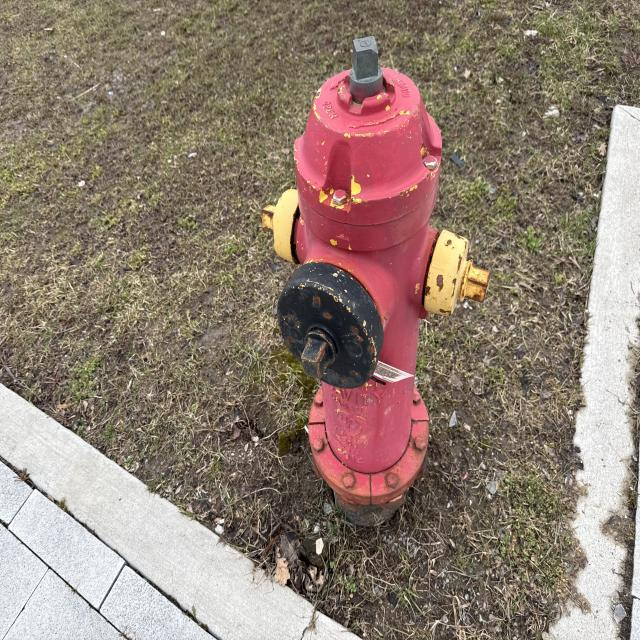Fire hydrant: (260, 34, 492, 513)
